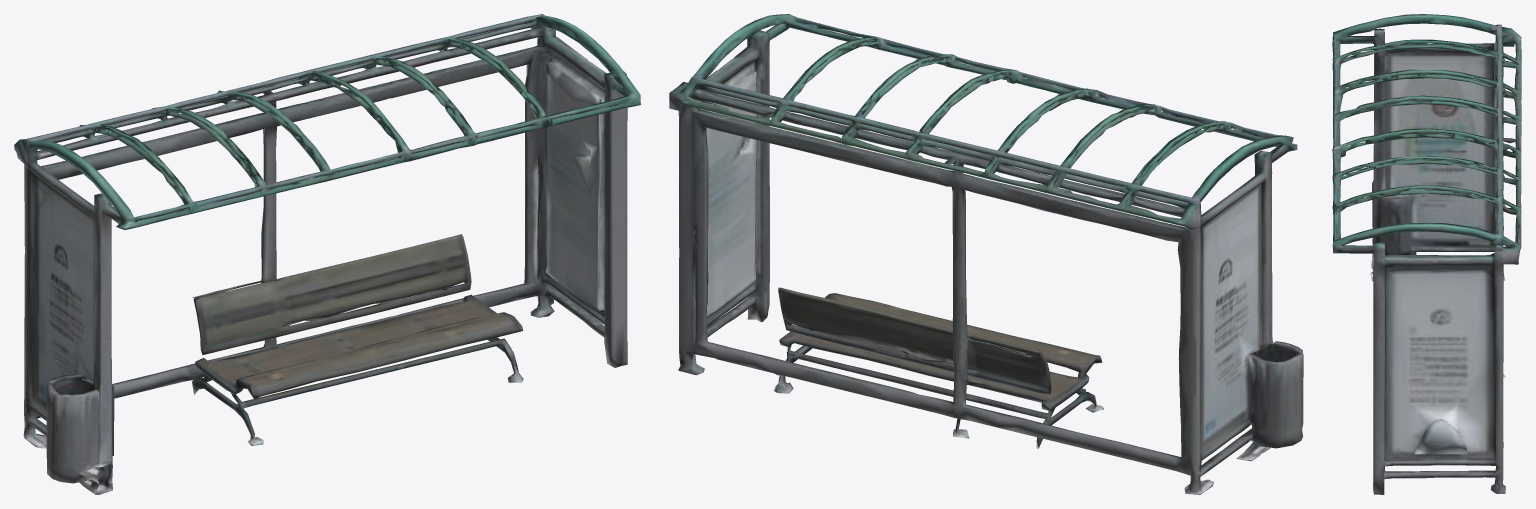
The model's file is ponto_aeroporto.glb.
3 renders of one model, left to right at view 1: azimuth 30°, elevation 25°; view 2: azimuth 150°, elevation 25°; view 3: azimuth 270°, elevation 25°, orthographic. The views are drawn at different scales.
Parts seen in each view (by area): view 1: raiz; view 2: raiz; view 3: raiz.
Part boxes in pixels (left/top/right/bottom): raiz: left=14, top=14, right=640, bottom=494; raiz: left=669, top=14, right=1303, bottom=494; raiz: left=1332, top=14, right=1521, bottom=494.
Bounding box in the file's own units: 4.77 × 2.52 × 1.63.
1 material, 1 textured.
